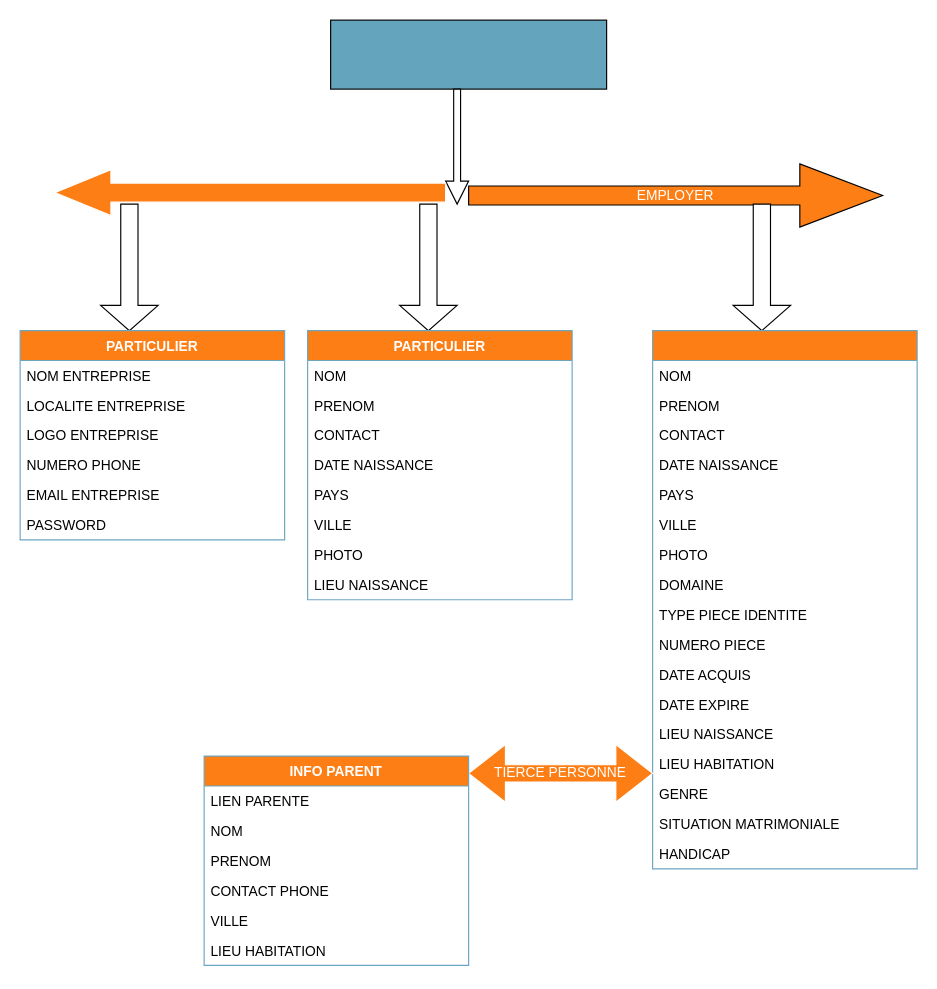
Some shapes in this 937 by 989 pixel diagram are drawn without their labels. Each missing label, with the box of its shape:
INSCRIPTION: (329, 19, 607, 89)
RECRUTEUR: (53, 168, 446, 216)
